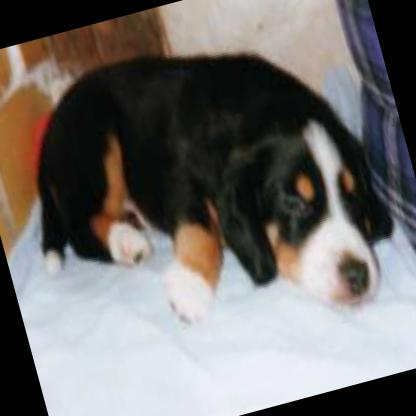EntleBucher: (0, 0, 411, 381)
